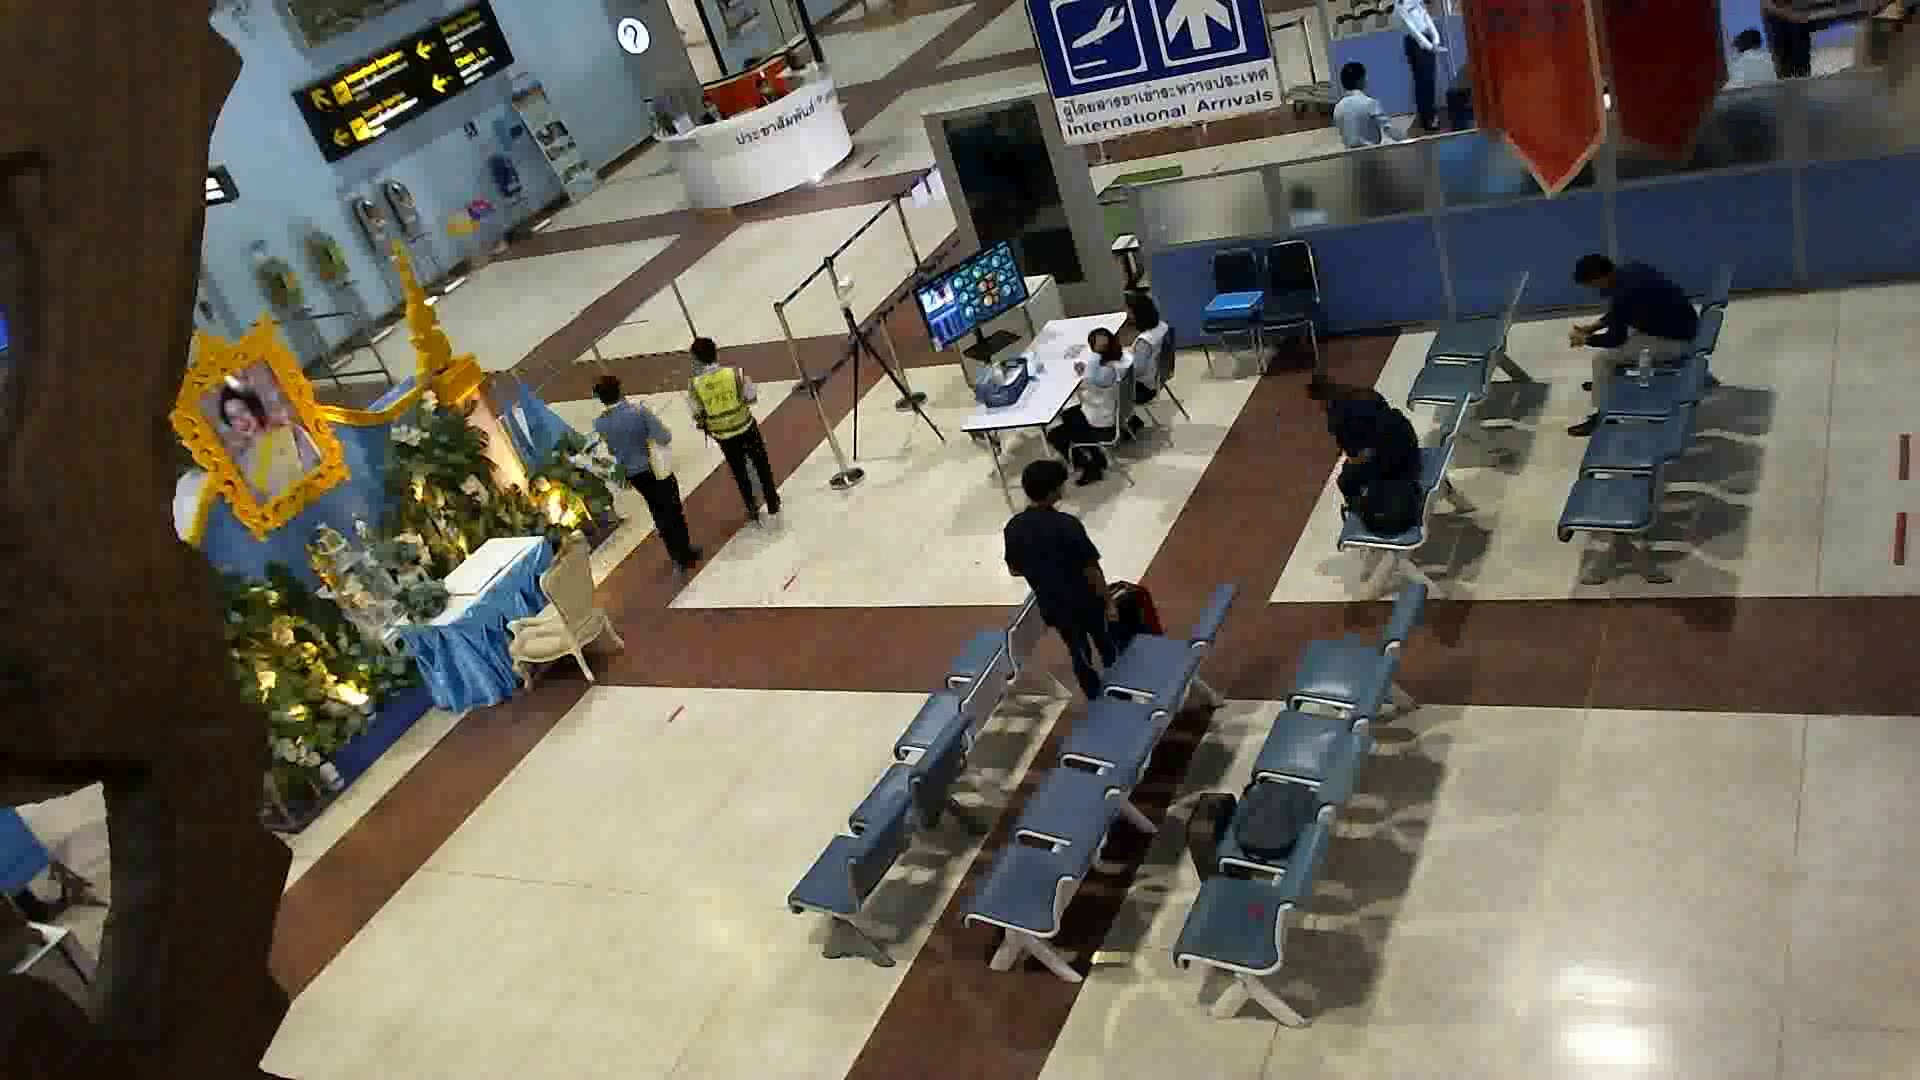backpack: (1239, 770, 1316, 855), (1353, 476, 1431, 541)
luggage: (1185, 786, 1256, 903), (1101, 572, 1168, 659)
people: (1012, 436, 1118, 722), (1568, 236, 1706, 441), (683, 318, 791, 532), (597, 380, 706, 590), (1314, 372, 1418, 493), (1106, 278, 1195, 420), (1058, 322, 1135, 478)
